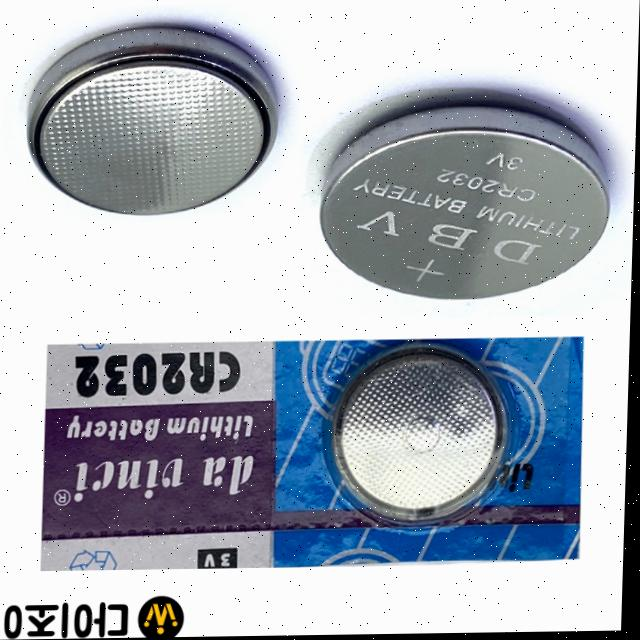battery: (312, 106, 624, 303), (20, 30, 295, 229), (320, 340, 517, 532)
